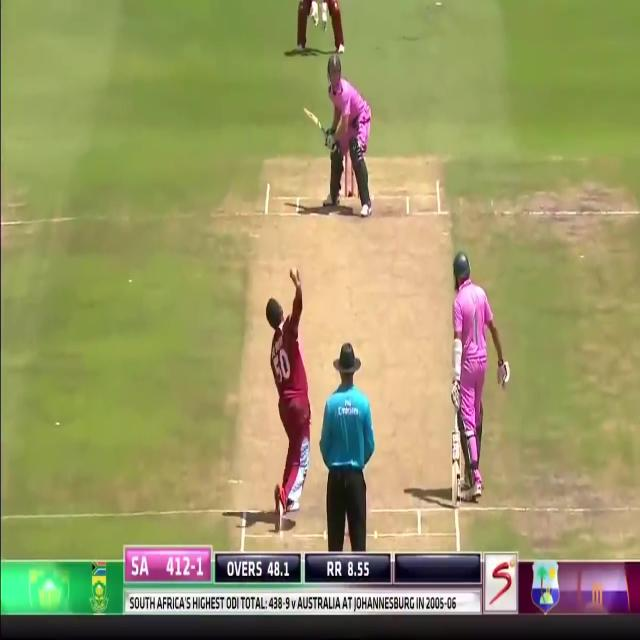Ball: (451, 253, 510, 497), (325, 54, 374, 216)
Fielder: (269, 265, 314, 524), (295, 0, 316, 52), (327, 0, 345, 52)
Umpire: (320, 346, 375, 552)
